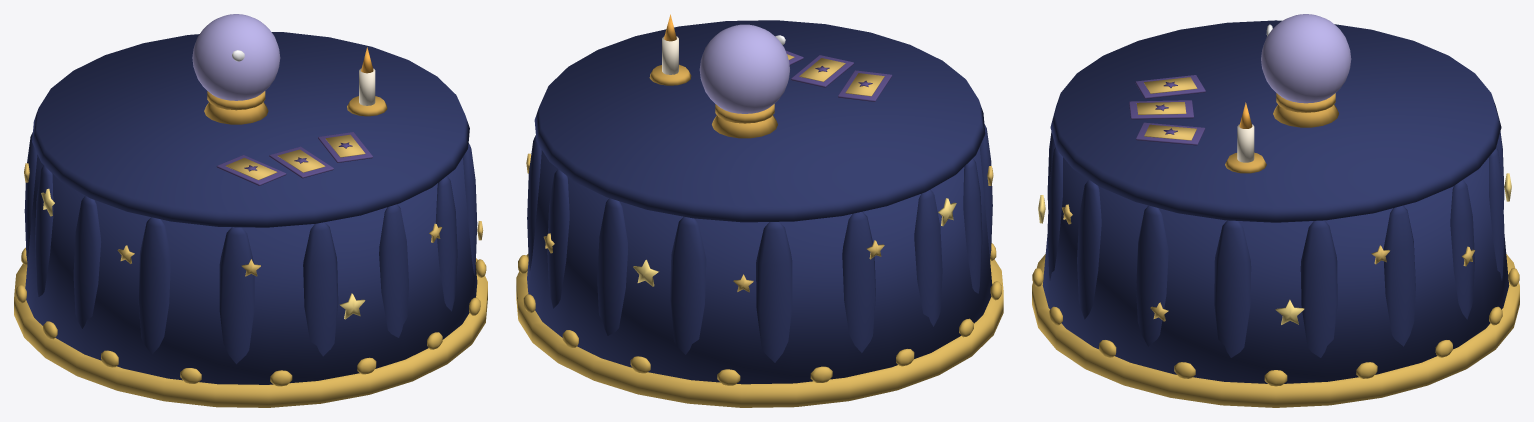
Rendered from fortune-table.glb.
The picture shows the model from 3 angles, left to right: view 1: azimuth 30°, elevation 25°; view 2: azimuth 150°, elevation 25°; view 3: azimuth 270°, elevation 25°; orthographic projection. The views are drawn at different scales.
Parts seen in each view (by area): view 1: table, top; view 2: table, top; view 3: table, top.
Boxes of the visible parts, bbox=[...] form: table: bbox=[14, 32, 487, 407]; top: bbox=[192, 14, 387, 185]; table: bbox=[516, 20, 1003, 407]; top: bbox=[649, 24, 892, 138]; table: bbox=[1032, 20, 1519, 407]; top: bbox=[1129, 14, 1351, 173].
Bounding box in the file's own units: 1.62 × 1.05 × 1.62.
